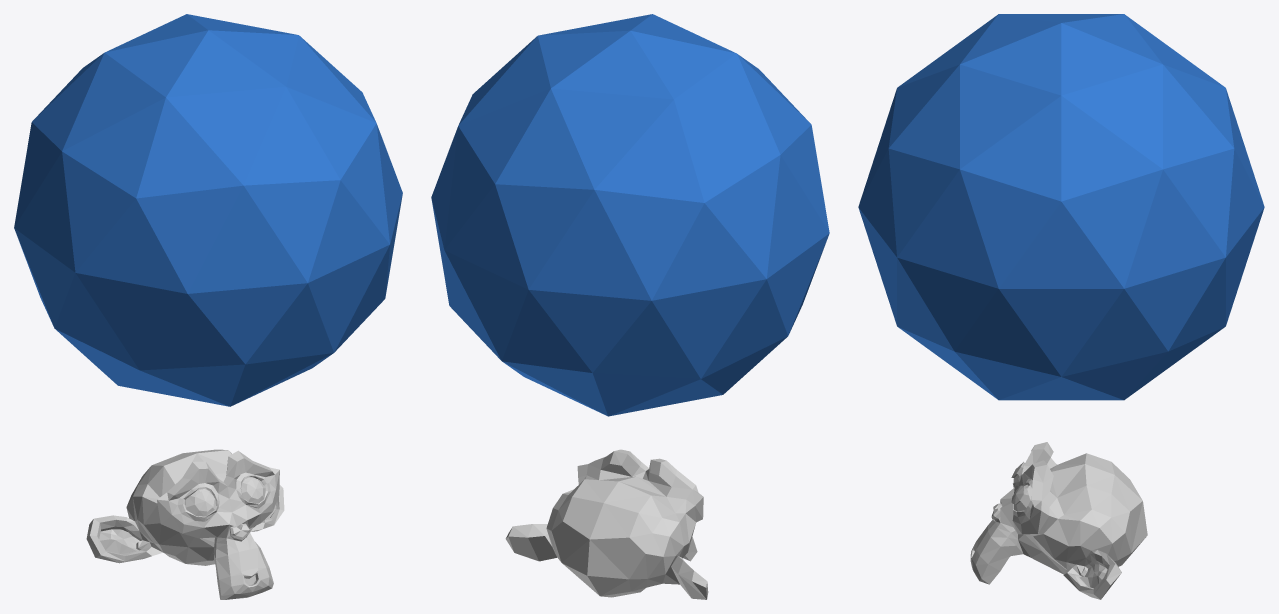
File: color.dae
3 views of the same model, side by side, from view 1: azimuth 30°, elevation 25°; view 2: azimuth 150°, elevation 25°; view 3: azimuth 270°, elevation 25° (orthographic). The views are drawn at different scales.
Parts seen in each view (by area): view 1: Icosphere, Suzanne; view 2: Icosphere, Suzanne; view 3: Icosphere, Suzanne.
Part boxes in pixels (box(x1,y1,x2,y2)): Icosphere: box(14, 14, 402, 406); Suzanne: box(86, 449, 284, 599); Icosphere: box(431, 14, 829, 416); Suzanne: box(505, 449, 708, 599); Icosphere: box(858, 14, 1264, 400); Suzanne: box(970, 442, 1147, 599).
Size of the model in its own units: 1.9 by 2 by 3.
